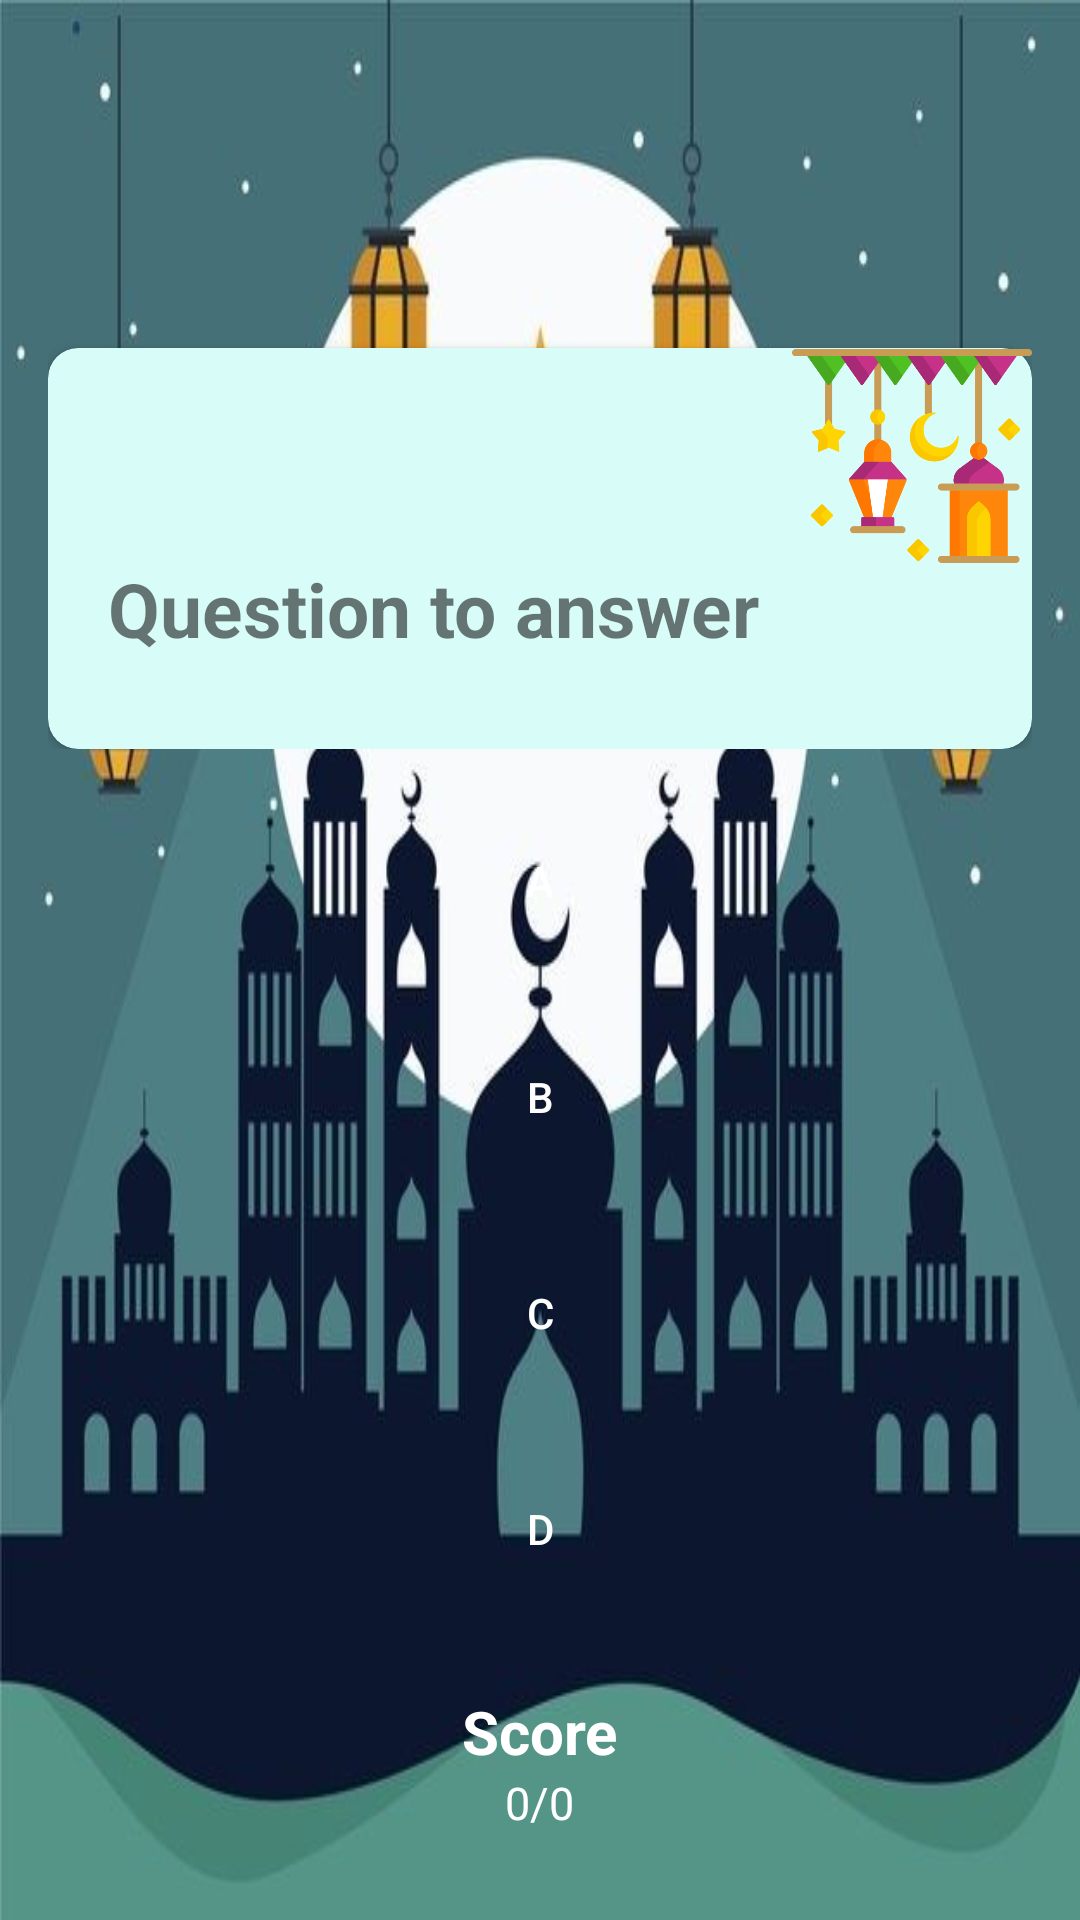

Icons on this 1080px×1920px Android screen, each with the point to tap as (x=x, y=y):
oil lamp: (x=912, y=456)
